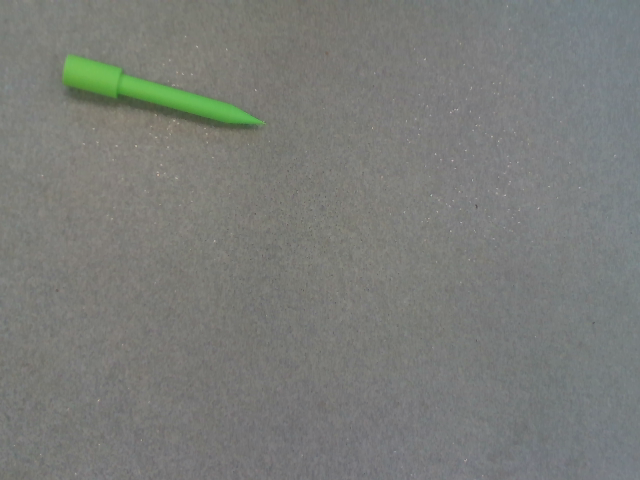Probe: (57, 51, 273, 135)
